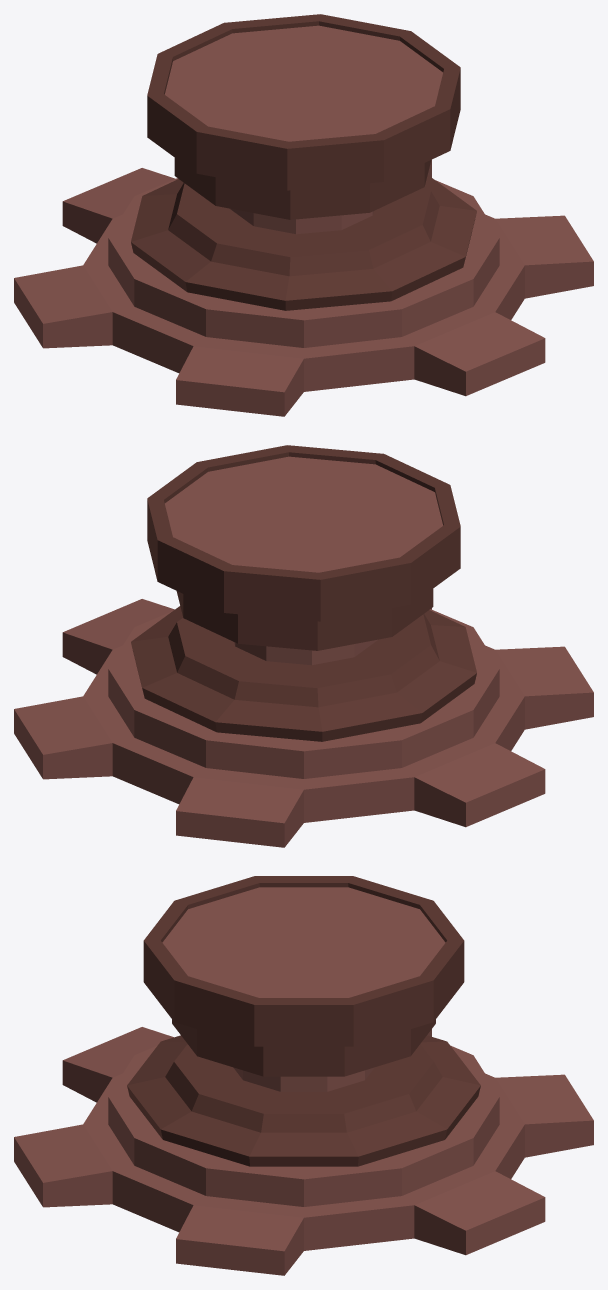
3 views of the same model, one above another, from view 1: azimuth 30°, elevation 25°; view 2: azimuth 150°, elevation 25°; view 3: azimuth 270°, elevation 25° (orthographic).
Parts seen in each view (by area): view 1: Base; view 2: Base; view 3: Base.
Boxes of the visible parts, x1,y1,x2,y2 form: Base: (14, 14, 593, 416); Base: (14, 445, 593, 847); Base: (14, 876, 593, 1275).
Size of the model in its own units: 1.38 by 0.5688 by 1.38.
